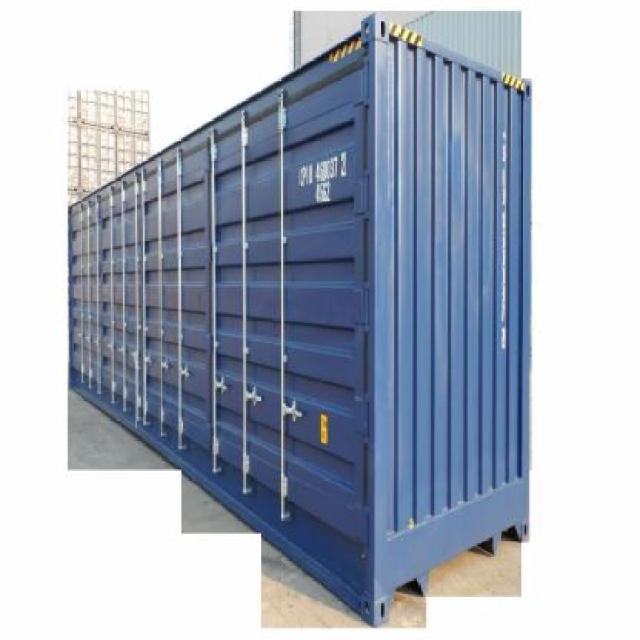ISO: (310, 183, 334, 203)
container_number: (296, 152, 352, 186)
